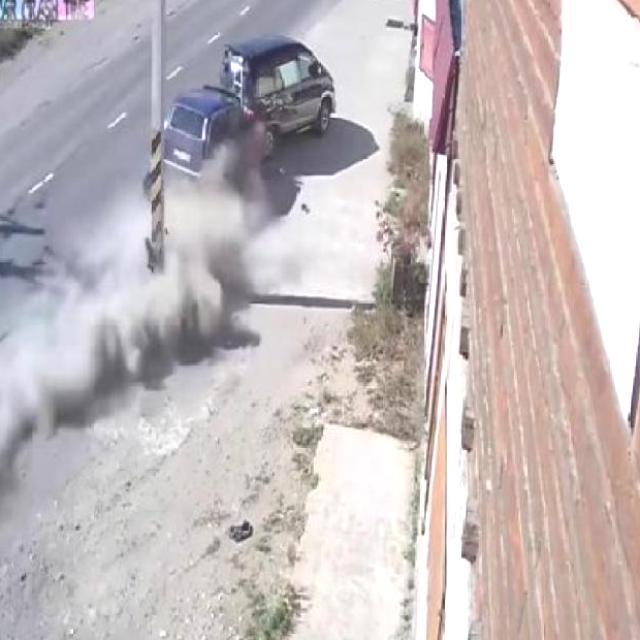accident: (201, 39, 286, 180)
